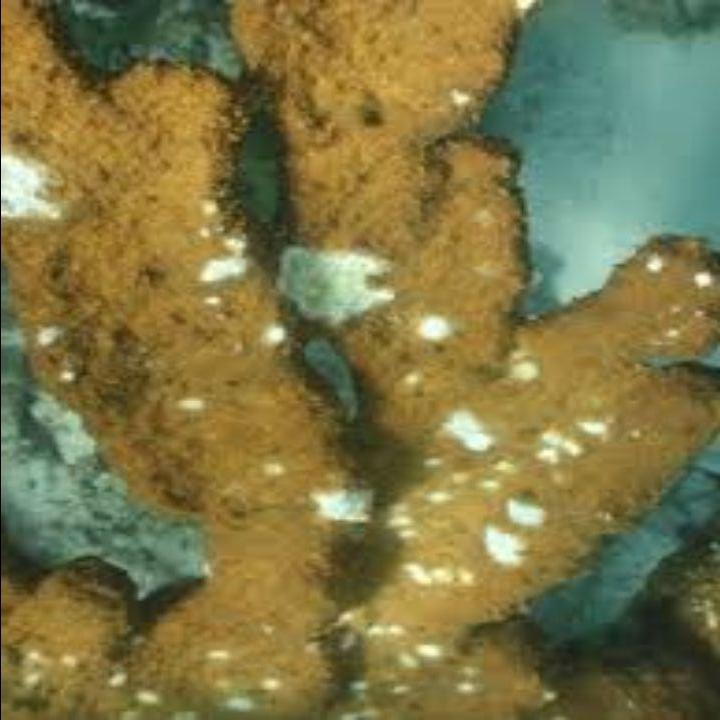White Pox Disease: (84, 153, 655, 702)
